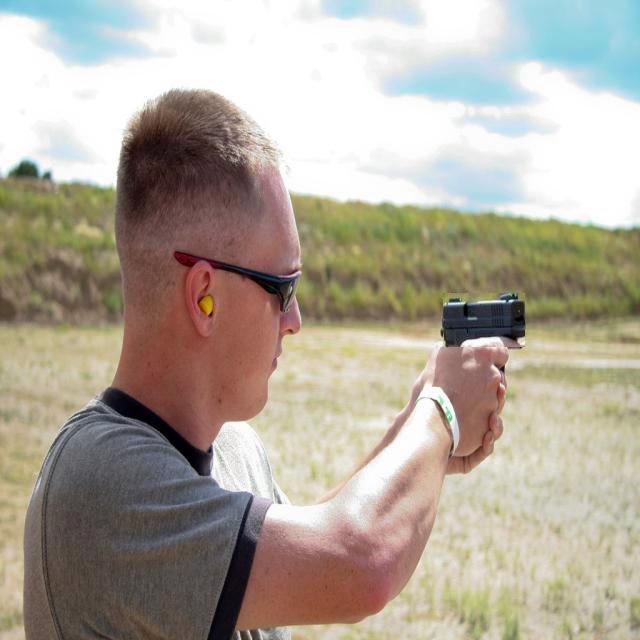Gun: (443, 293, 525, 347)
